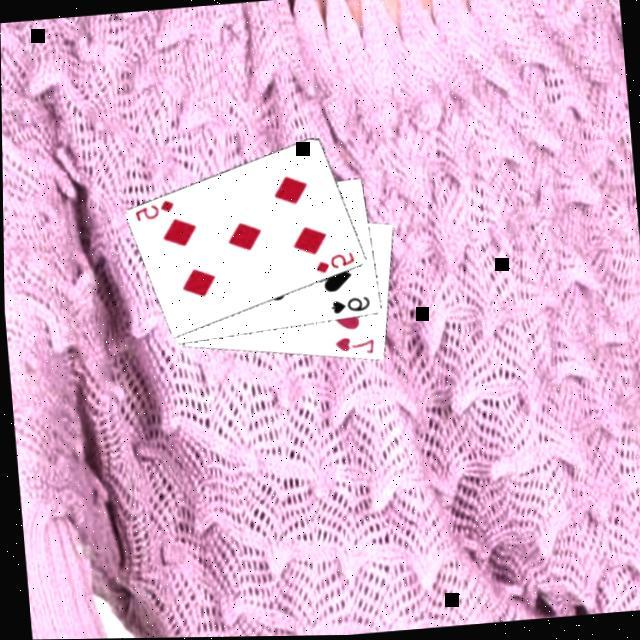5D: (310, 247, 358, 276), (131, 194, 178, 222)
6S: (326, 291, 372, 316)
7H: (330, 331, 378, 358)
